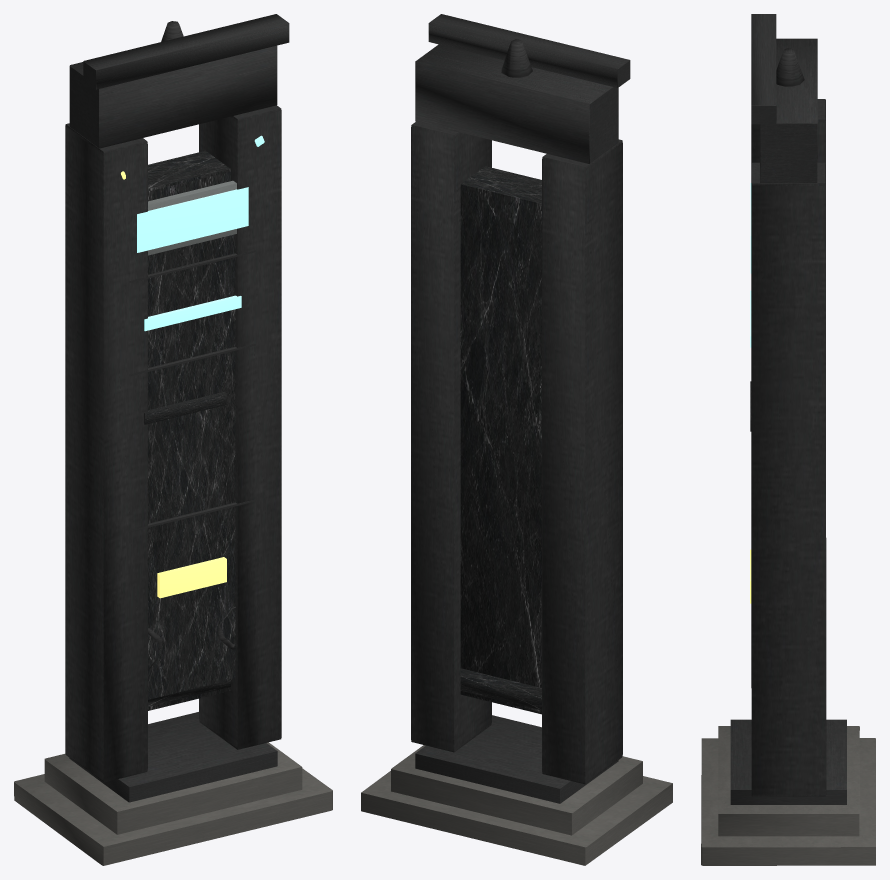
File: hp_room_l01_p07.glb
3 views of the same model, side by side, from view 1: azimuth 30°, elevation 25°; view 2: azimuth 150°, elevation 25°; view 3: azimuth 270°, elevation 25° (orthographic). The views are drawn at different scales.
Parts seen in each view (by area): view 1: room_l01_p07; view 2: room_l01_p07; view 3: room_l01_p07.
Boxes of the visible parts, x1,y1,x2,y2 form: room_l01_p07: (14,14,332,865); room_l01_p07: (361,14,672,865); room_l01_p07: (701,14,875,865).
Bounding box in the file's own units: 0.6201 × 2.01 × 0.4185.
8 materials, 5 textured.
